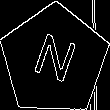N_S: (28, 29, 81, 91)
